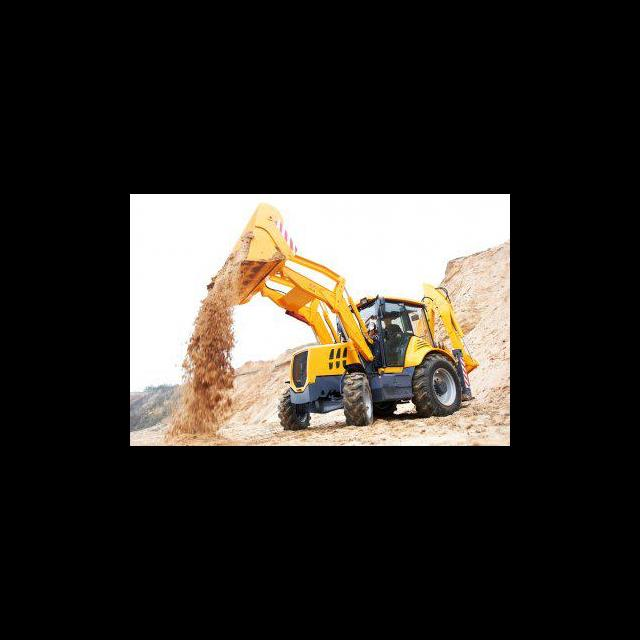NO-Hardhat: (383, 317, 392, 321)
NO-Mask: (385, 322, 392, 325)
NO-Safety Vest: (384, 325, 401, 339)
Person: (382, 316, 404, 364)
wheel loader: (204, 200, 480, 425)
